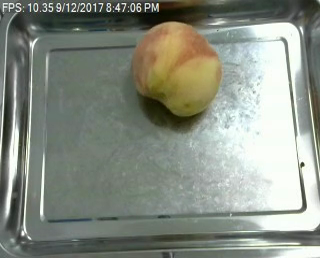Peach: (131, 19, 222, 117)
